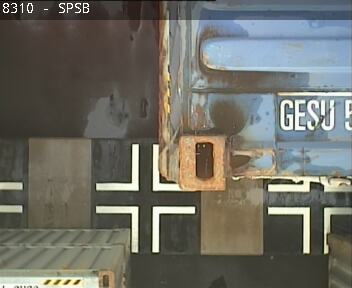groundmarker_1: (94, 206, 192, 253), (264, 205, 350, 256), (93, 143, 182, 192)
